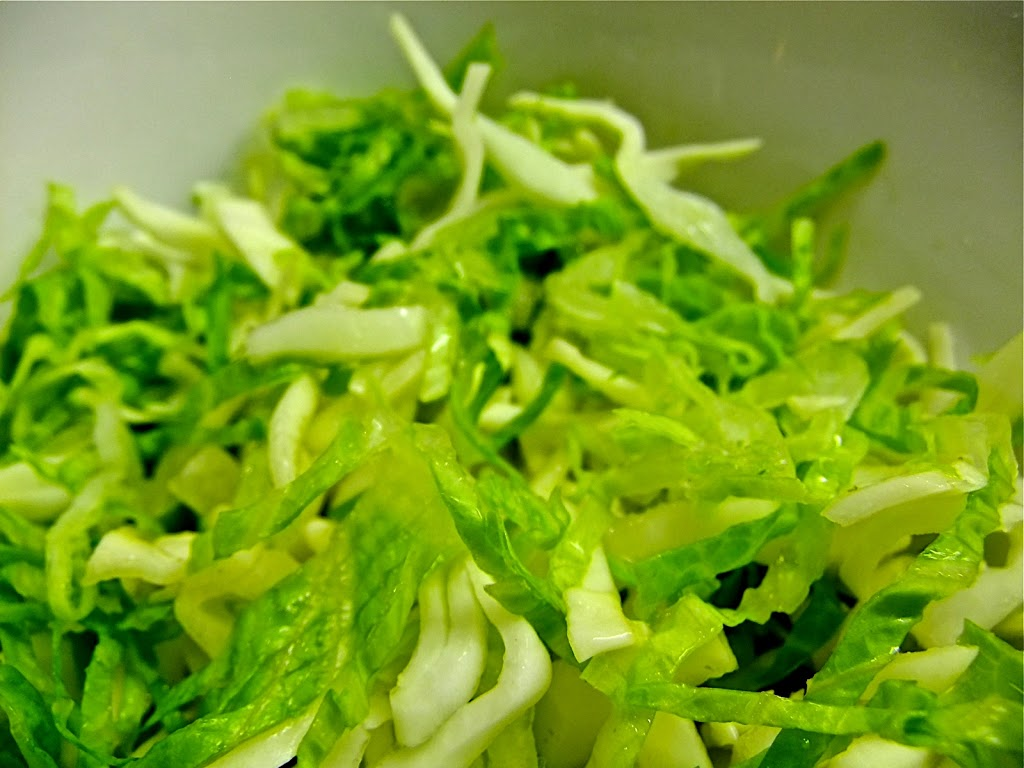chopped lettuce: (63, 150, 1009, 766)
